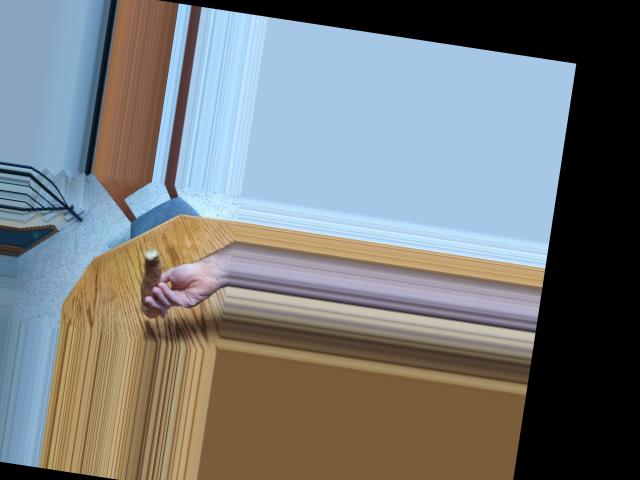sweet_potato: (133, 246, 173, 318)
